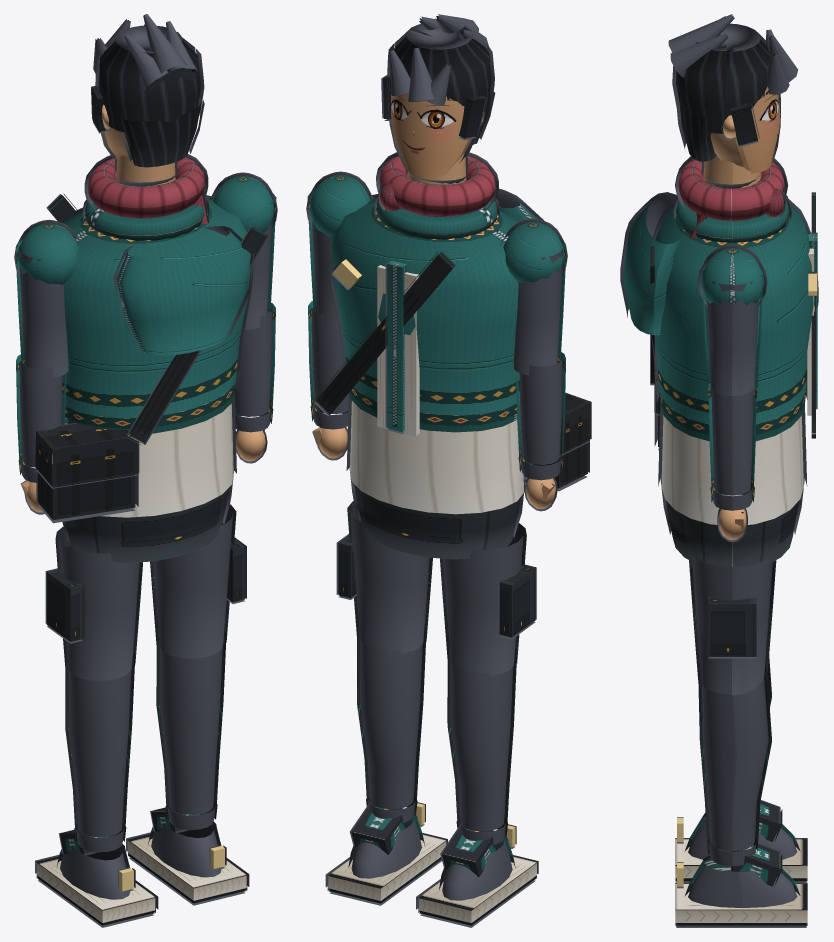
File: tuku_blockout_v02.glb
3 views of the same model, side by side, from view 1: azimuth 30°, elevation 25°; view 2: azimuth 150°, elevation 25°; view 3: azimuth 270°, elevation 25° (orthographic).
Visible parts, largest first — view 1: TorsoRoot, HeadRoot, LeftKneeRoot, RightKneeRoot, RightLegRoot, LeftLegRoot, SatchelRoot, RightArmRoot, LeftElbowRoot, LeftArmRoot, RightElbowRoot; view 2: TorsoRoot, HeadRoot, RightKneeRoot, LeftKneeRoot, RightLegRoot, LeftLegRoot, RightArmRoot, RightElbowRoot, LeftArmRoot, LeftElbowRoot, SatchelRoot; view 3: TorsoRoot, HeadRoot, LeftKneeRoot, LeftLegRoot, LeftArmRoot, LeftElbowRoot, RightKneeRoot.
Part boxes in pixels (x1,y1,x2,y2): TorsoRoot: (46,193,269,562); HeadRoot: (84,14,208,218); LeftKneeRoot: (126,630,249,905); RightKneeRoot: (35,652,158,927); RightLegRoot: (45,526,142,680); LeftLegRoot: (150,504,246,658); SatchelRoot: (35,423,139,523); RightArmRoot: (14,220,81,377); LeftElbowRoot: (234,302,275,463); LeftArmRoot: (210,172,277,329); RightElbowRoot: (16,354,66,514); TorsoRoot: (314,188,544,559); HeadRoot: (376,14,498,217); RightKneeRoot: (416,648,538,927); LeftKneeRoot: (325,626,447,905); RightLegRoot: (440,523,536,675); LeftLegRoot: (336,501,432,653); RightArmRoot: (500,218,567,375); RightElbowRoot: (516,352,565,511); LeftArmRoot: (306,171,373,327); LeftElbowRoot: (308,301,348,460); SatchelRoot: (523,392,591,491); TorsoRoot: (620,192,818,566); HeadRoot: (668,14,797,220); LeftKneeRoot: (675,666,807,927); LeftLegRoot: (689,554,776,695); LeftArmRoot: (697,244,767,395); LeftElbowRoot: (708,383,756,542); RightKneeRoot: (675,655,807,882).
Bounding box in the file's own units: 0.5294 × 1.74 × 0.3587.
Materials: 3 (1 with a texture image).
